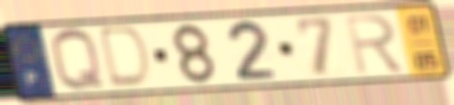2: (224, 17, 283, 83)
7: (294, 14, 338, 80)
8: (170, 21, 220, 87)
D: (99, 24, 154, 90)
Q: (47, 26, 109, 94)
R: (342, 12, 408, 77)
